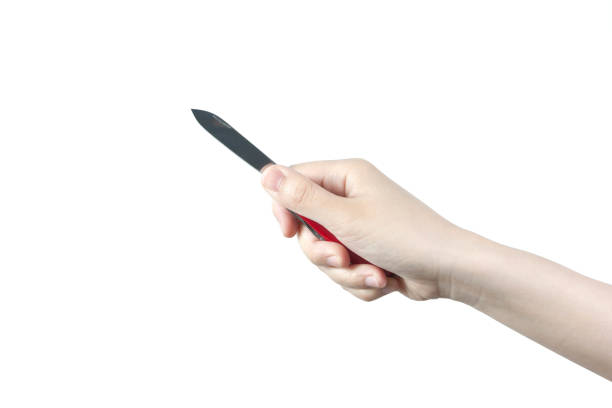knife: (189, 108, 276, 175)
